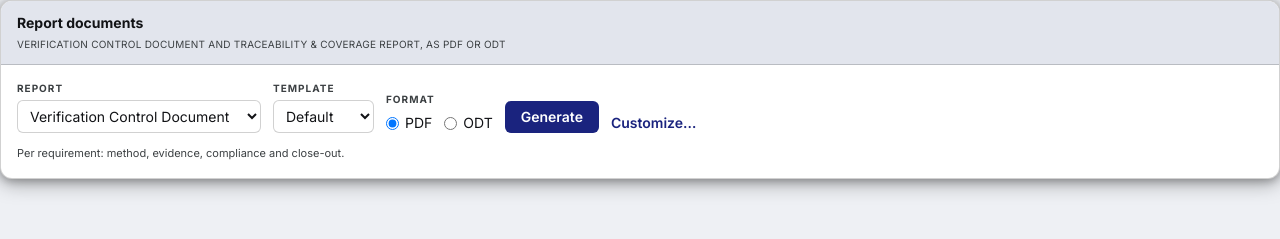
ReportDocumentsCard › shows errors
Click the button "Generate" at (552, 117), box [505, 101, 599, 133]
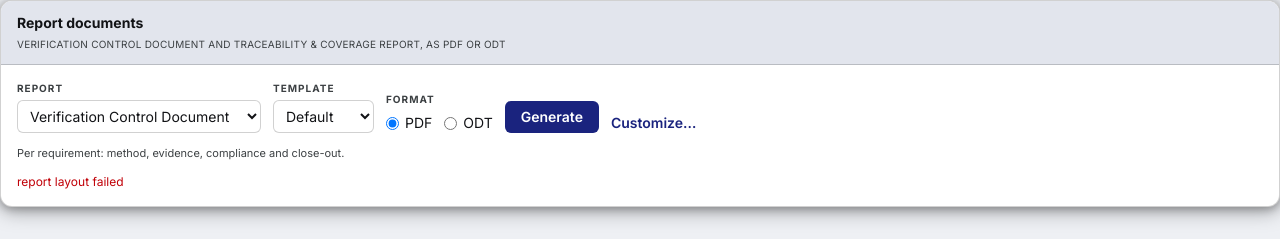
Expected: the message reads "report layout failed", [17, 174, 124, 188]
